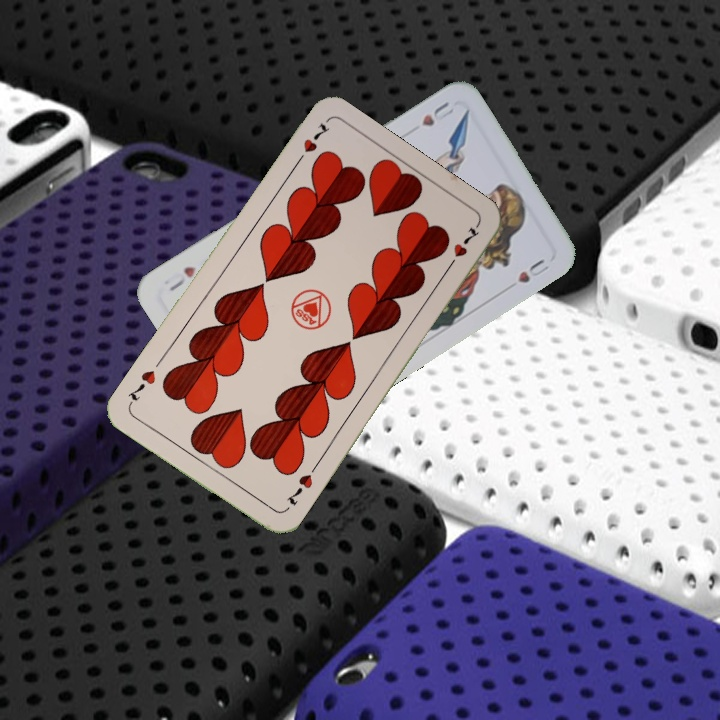H7: (291, 119, 333, 169), (282, 469, 316, 508)
HU: (417, 97, 457, 129)
